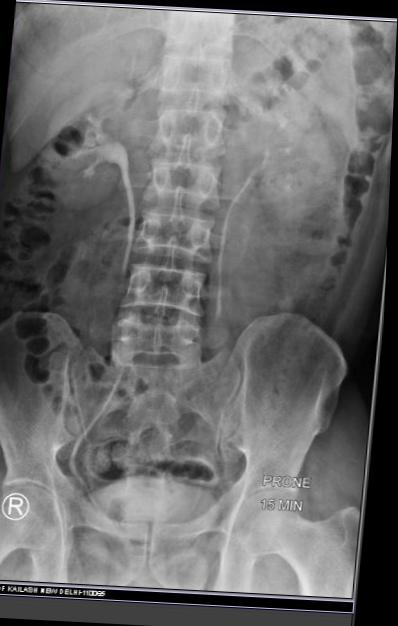bladder: (83, 482, 239, 555)
left kidney: (249, 42, 373, 228)
right kidney: (29, 56, 146, 224)
vertebrae: (154, 92, 242, 150)
